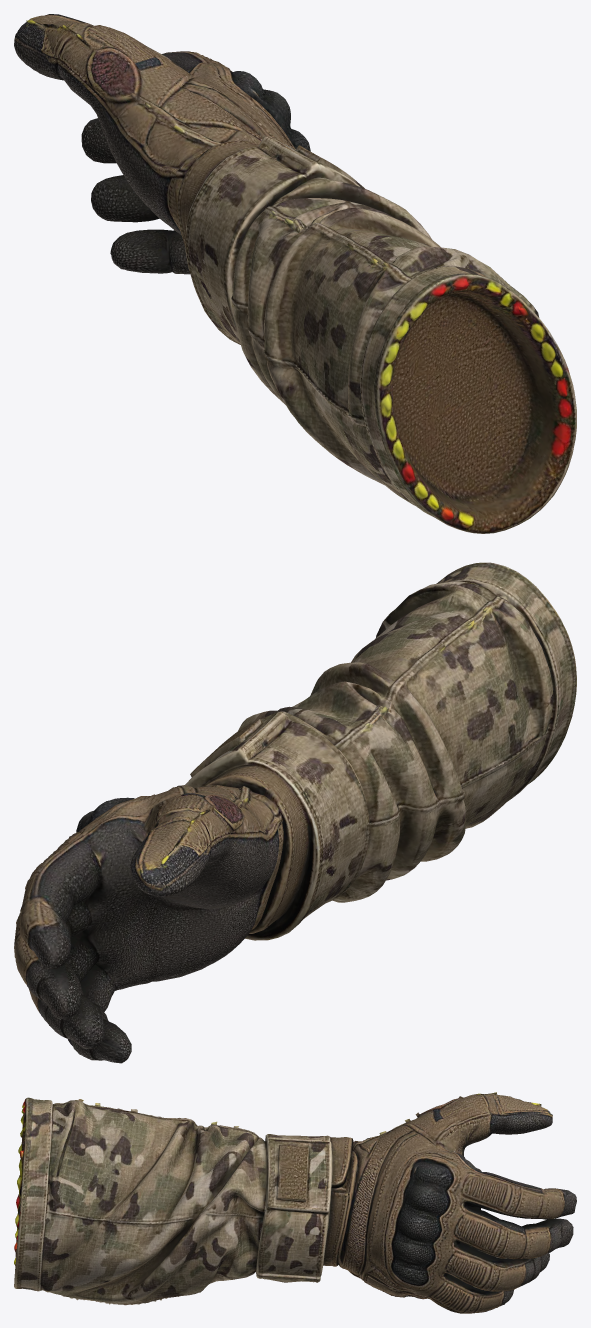
Rendered from arm_l.glb.
The picture shows the model from 3 angles, top to bottom: view 1: azimuth 30°, elevation 25°; view 2: azimuth 150°, elevation 25°; view 3: azimuth 270°, elevation 25°; orthographic projection. The views are drawn at different scales.
Visible parts, largest first — view 1: tripo_node_f9bd148d-949f-41fe-876e-54636ab8605e; view 2: tripo_node_f9bd148d-949f-41fe-876e-54636ab8605e; view 3: tripo_node_f9bd148d-949f-41fe-876e-54636ab8605e.
Part boxes in pixels (x1=…): tripo_node_f9bd148d-949f-41fe-876e-54636ab8605e: x1=14, y1=14, x2=576, y2=533; tripo_node_f9bd148d-949f-41fe-876e-54636ab8605e: x1=14, y1=562, x2=576, y2=1063; tripo_node_f9bd148d-949f-41fe-876e-54636ab8605e: x1=14, y1=1092, x2=576, y2=1313.
Size of the model in its own units: 0.3054 by 0.3493 by 0.9788.
Materials: 1 (1 with a texture image).
